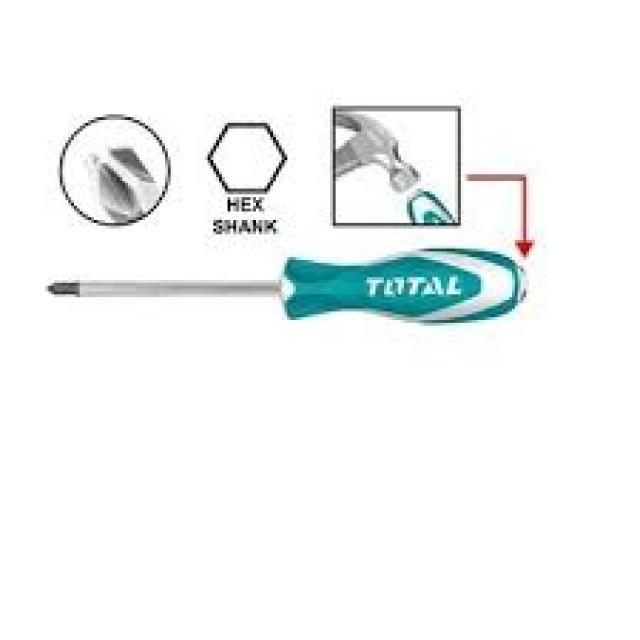screwdriver: (44, 242, 533, 338)
